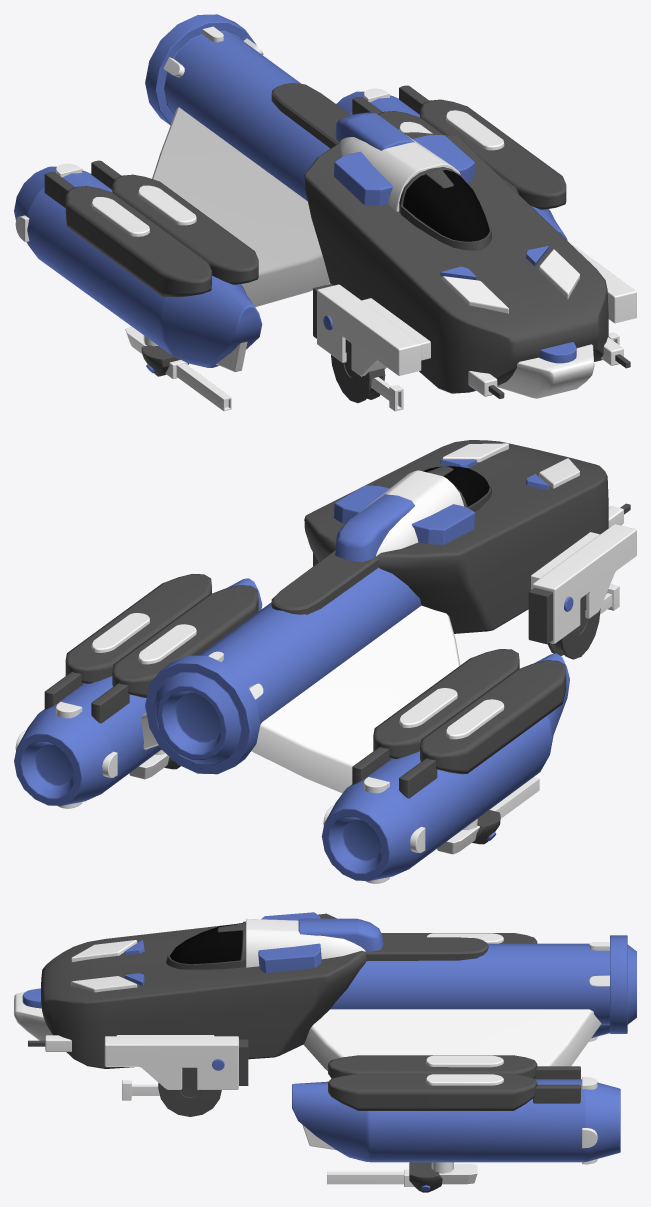
File: player.glb
3 renders of one model, top to bottom at view 1: azimuth 30°, elevation 25°; view 2: azimuth 150°, elevation 25°; view 3: azimuth 270°, elevation 25°, orthographic. The views are drawn at different scales.
Visible parts, largest first — view 1: support; view 2: support; view 3: support.
Part boxes in pixels (x1,y1,x2,y2): support: (14, 14, 636, 411); support: (14, 440, 636, 883); support: (14, 912, 636, 1192).
Size of the model in its own units: 1.2 by 0.7183 by 1.98.
1 material, 1 textured.
